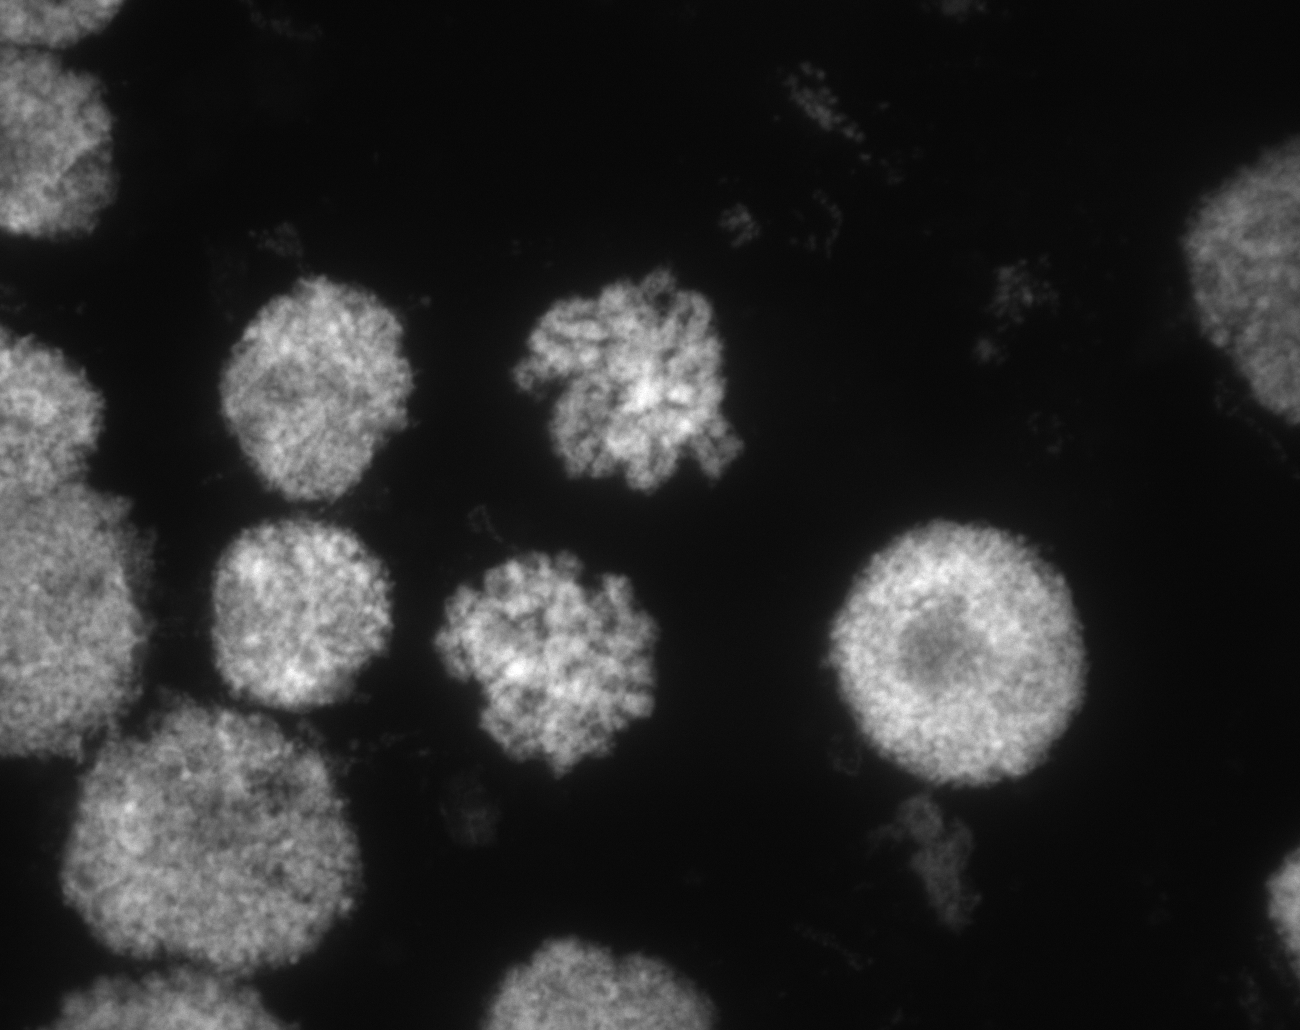Chromosomes: (490, 225, 756, 523), (433, 523, 682, 818), (188, 244, 438, 515)
Others: (788, 484, 1129, 827), (28, 704, 388, 1002), (1, 442, 181, 750), (176, 492, 414, 725), (1156, 116, 1300, 470), (424, 899, 804, 1030), (824, 799, 1032, 983), (8, 42, 164, 239)
